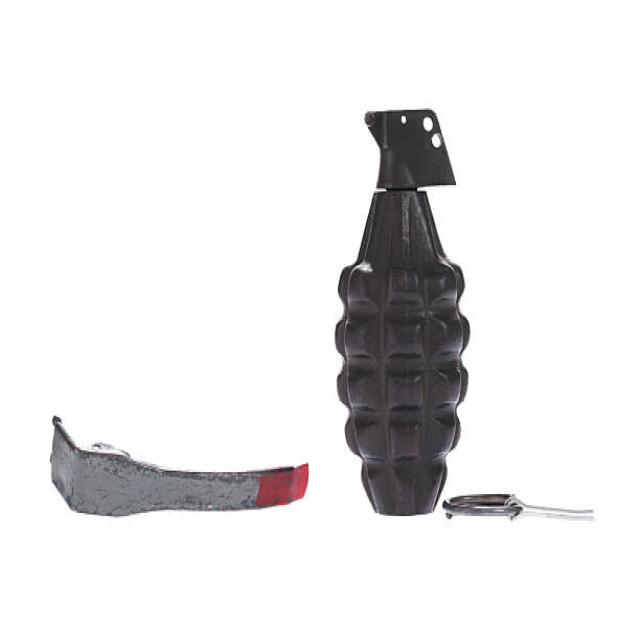grenade: (321, 107, 473, 525)
